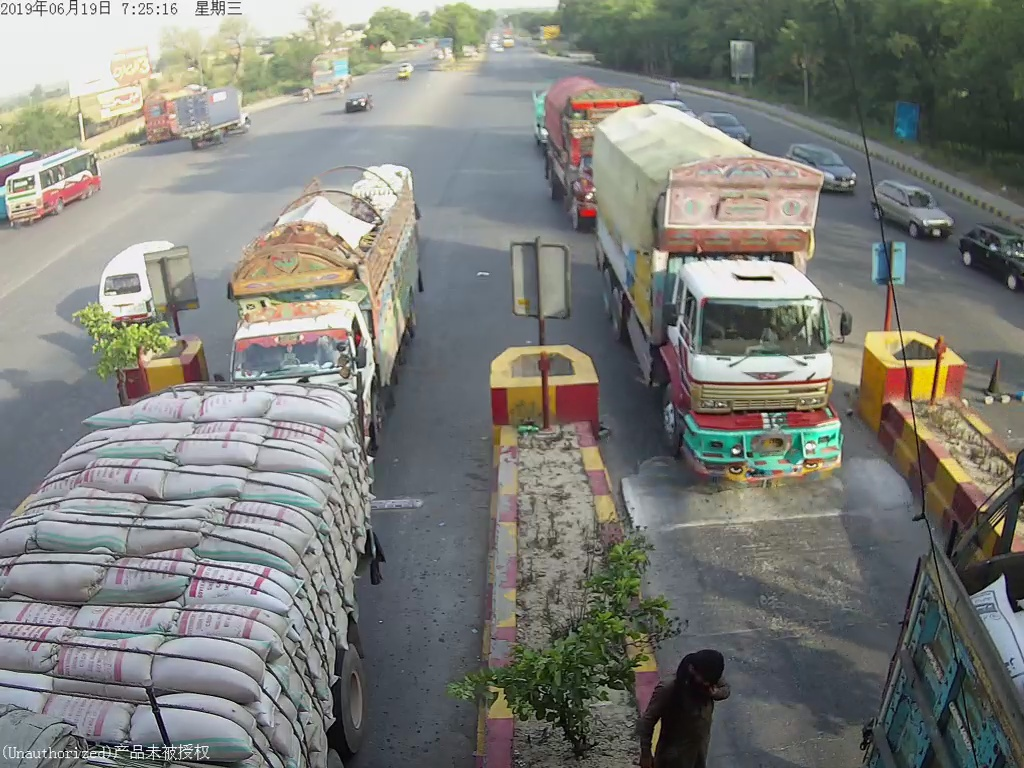Cat-4: (583, 112, 845, 507), (214, 162, 427, 371)
